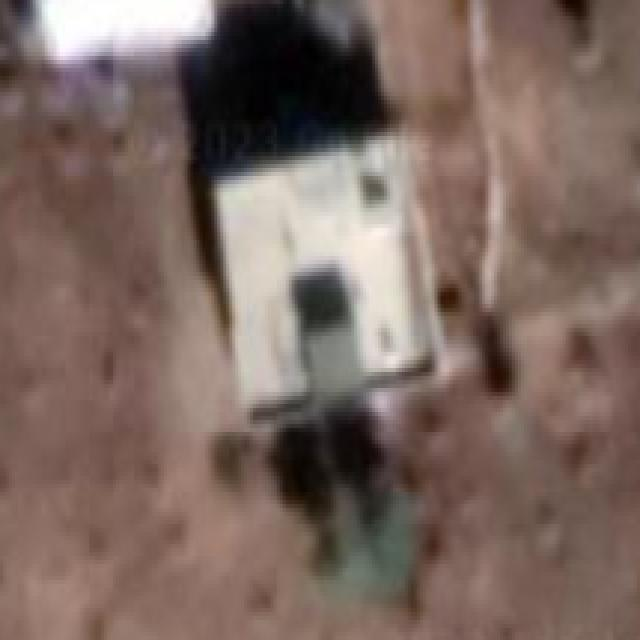Batiment: (215, 131, 431, 408)
